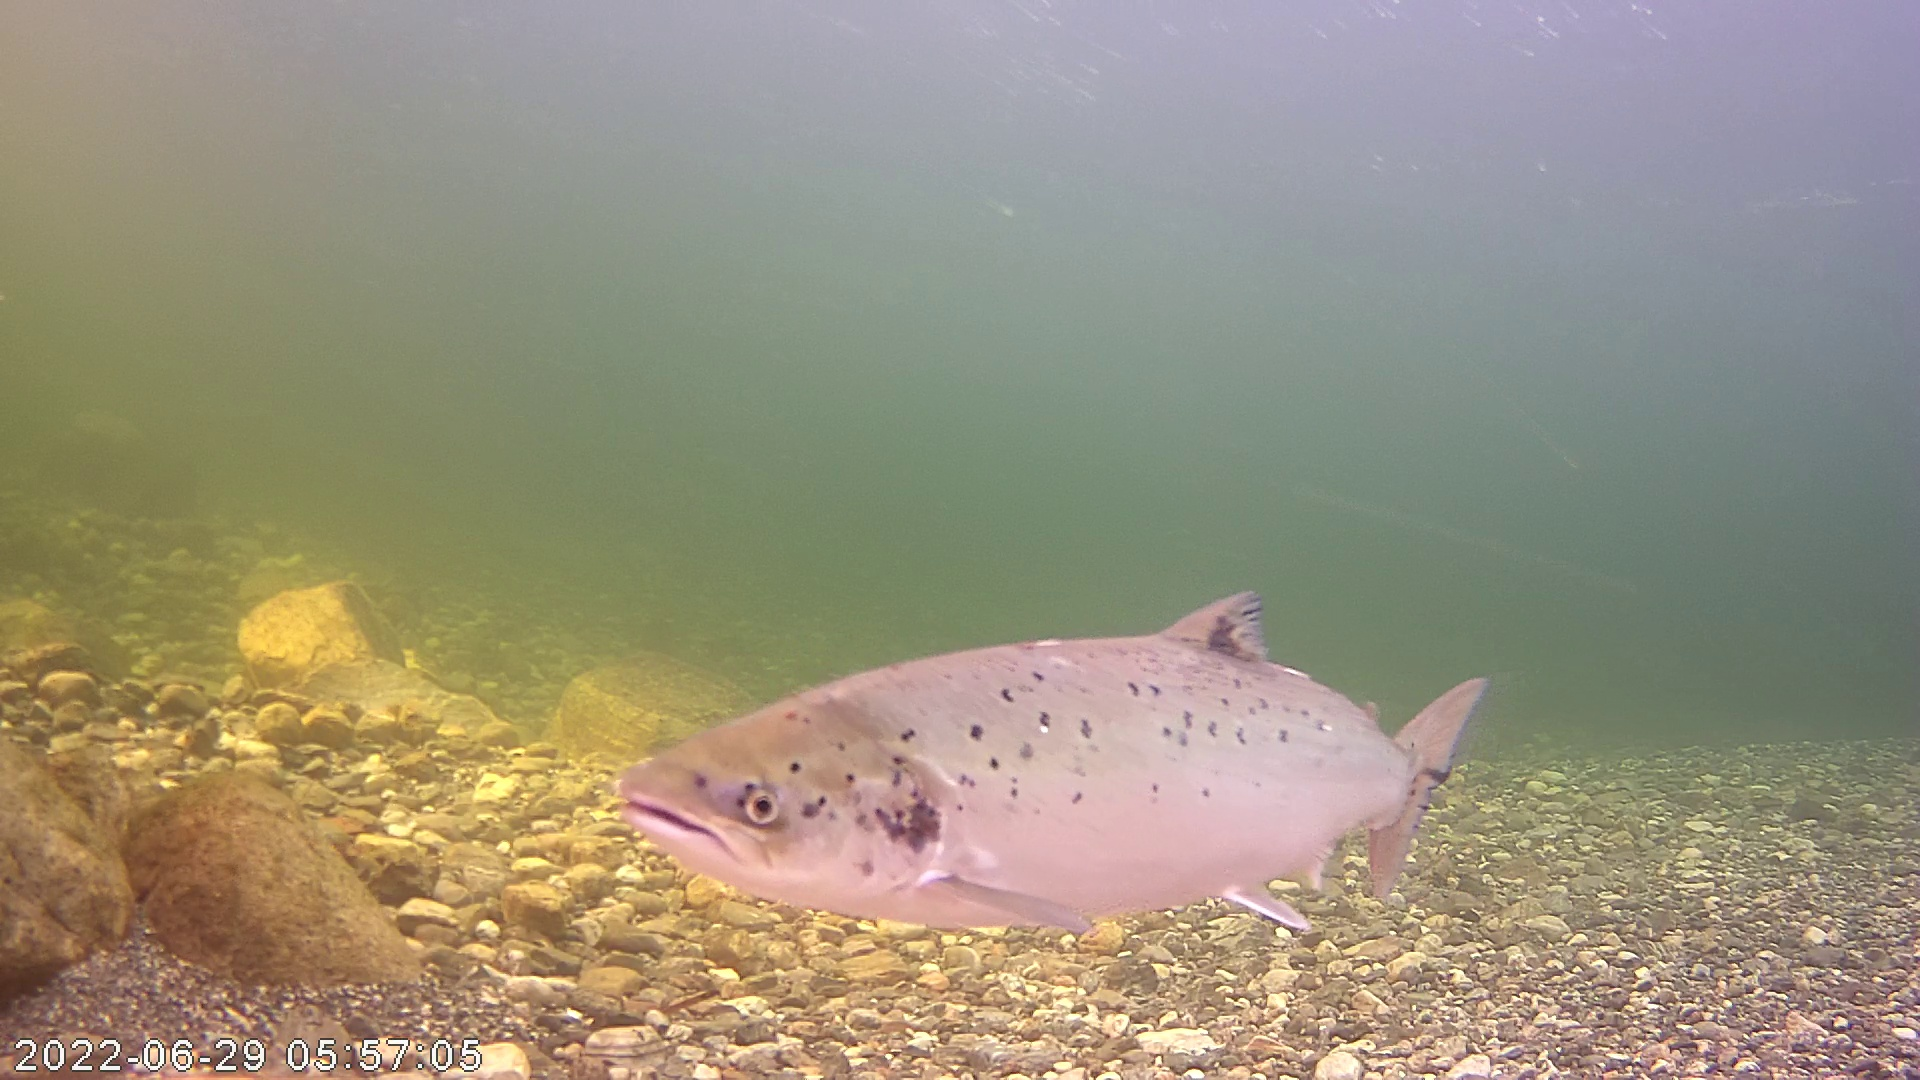salmon: (615, 508, 1476, 942)
